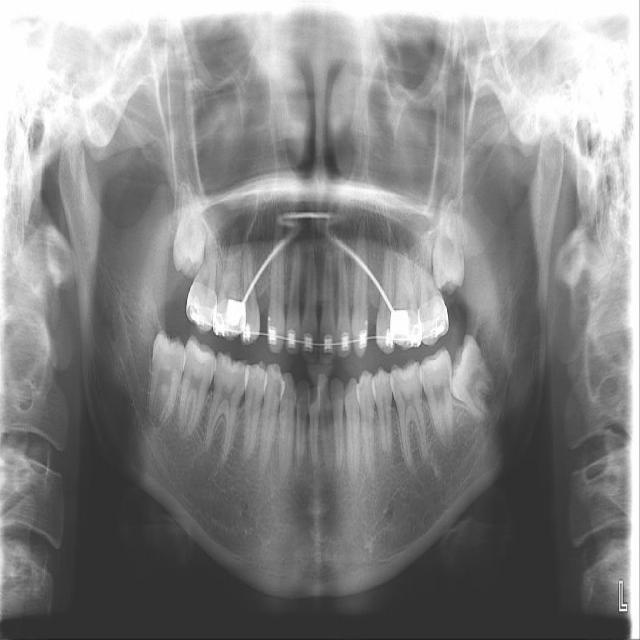3M ESPE Implant: (170, 184, 209, 278)
73: (595, 536, 601, 548)
BioHorizons Implant: (418, 227, 449, 345)
BioLife Implant: (432, 193, 465, 294)
Biomet 3i Implant: (431, 330, 510, 428)
Blue Sky Bio Implant: (418, 345, 455, 452)
Caries: (186, 201, 219, 332)
Implant: (176, 333, 219, 439)
Keystone Dental Implant: (147, 328, 188, 429)
